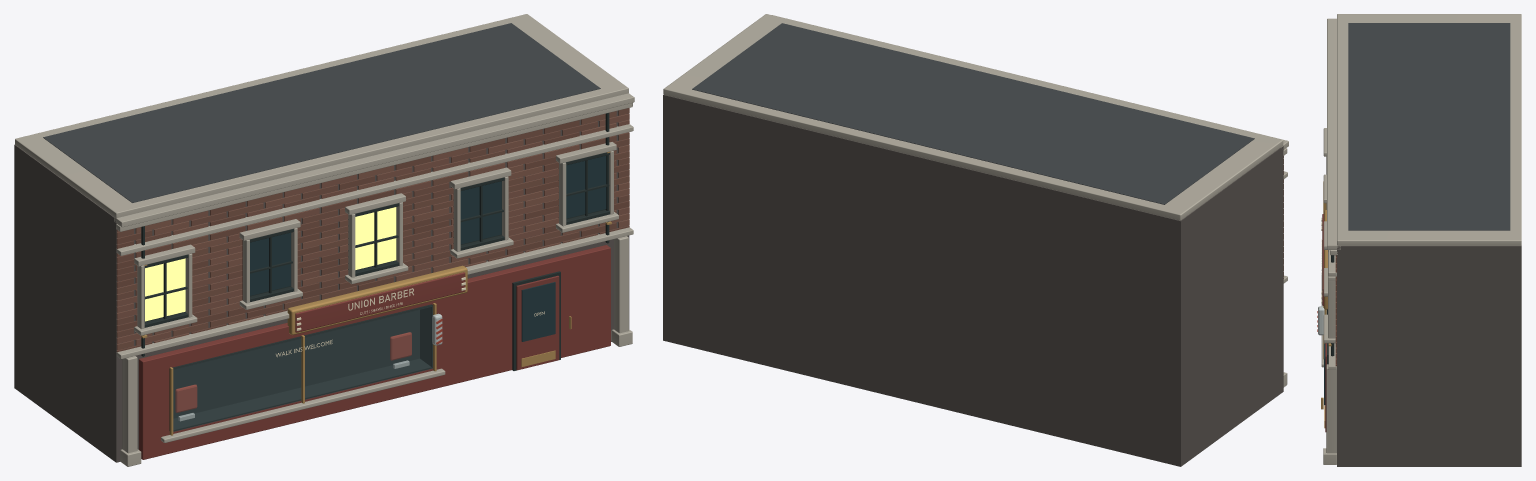
File: district-union-barber.glb
The picture shows the model from 3 angles, left to right: view 1: azimuth 30°, elevation 25°; view 2: azimuth 150°, elevation 25°; view 3: azimuth 270°, elevation 25°; orthographic projection. The views are drawn at different scales.
Visible parts, largest first — view 1: District Roof membrane, District Warm limestone, Existing envelope, District Coffee enamel, District Charcoal painted metal, District Shop window clear glazing, Roof cap, District Brick tone 3, District Brick tone 0, District Opaque dark glazing, District Brick tone 4, District Brick tone 1 (+7 smaller); view 2: Existing envelope, District Roof membrane, Roof cap, District Warm limestone; view 3: Existing envelope, District Roof membrane, Roof cap, District Warm limestone.
Part boxes in pixels (box(x1,y1,x2,y2)): District Roof membrane: box(43, 23, 600, 202); District Warm limestone: box(114, 93, 634, 466); Existing envelope: box(14, 110, 629, 462); District Coffee enamel: box(139, 245, 610, 459); District Charcoal painted metal: box(141, 113, 609, 431); District Shop window clear glazing: box(173, 306, 432, 431); Roof cap: box(15, 14, 628, 218); District Brick tone 3: box(116, 113, 629, 345); District Brick tone 0: box(116, 120, 629, 352); District Opaque dark glazing: box(250, 156, 606, 341); District Brick tone 4: box(135, 123, 629, 342); District Brick tone 1: box(116, 108, 629, 337); Existing envelope: box(663, 94, 1283, 466); District Roof membrane: box(692, 23, 1254, 204); Roof cap: box(663, 14, 1283, 220); District Warm limestone: box(772, 15, 1288, 387); Existing envelope: box(1337, 245, 1521, 466); District Roof membrane: box(1348, 23, 1510, 230); Roof cap: box(1337, 14, 1521, 245); District Warm limestone: box(1321, 18, 1340, 464).
Bounding box in the file's own units: 15.7 × 7.31 × 5.98.
